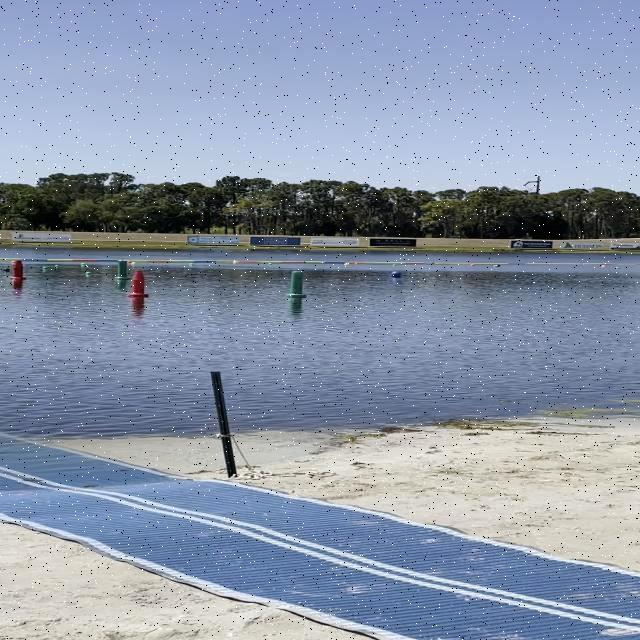buoy: (391, 270, 402, 278), (3, 268, 10, 272), (42, 266, 48, 269), (84, 272, 92, 274), (56, 264, 59, 268), (82, 263, 85, 265)
